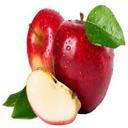apple: (25, 66, 81, 124)
